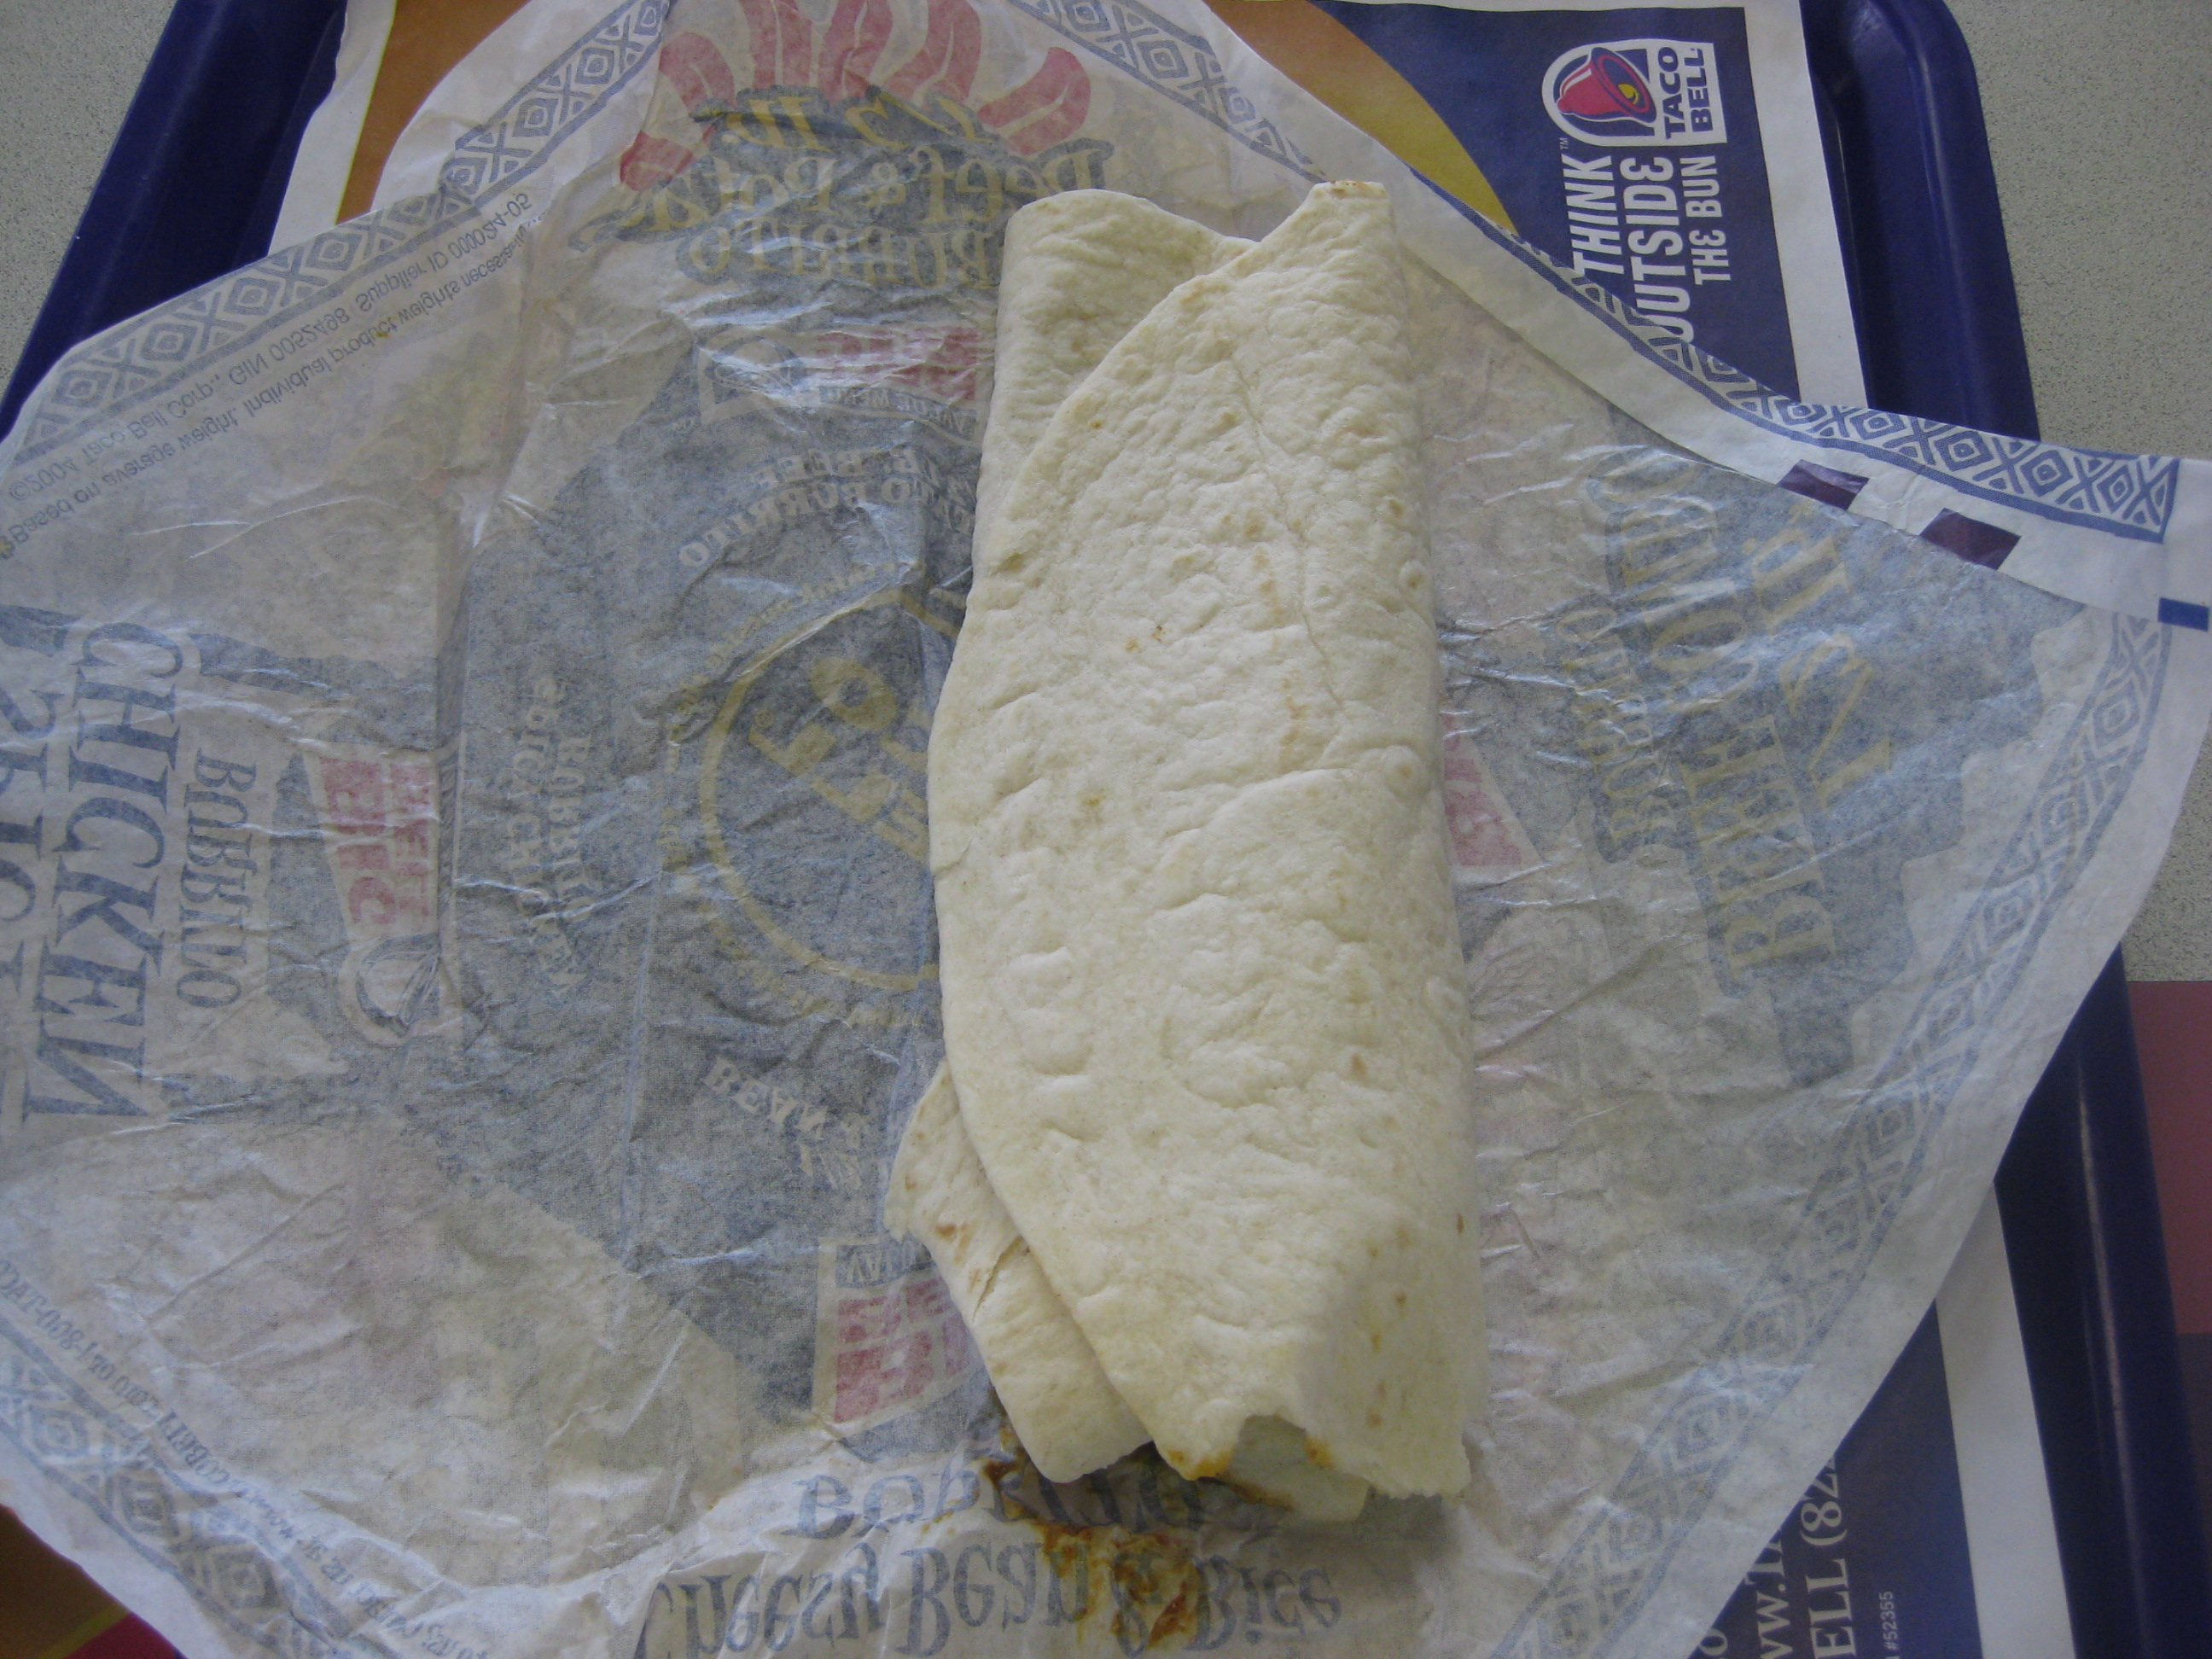burrito: (876, 136, 1623, 1552)
